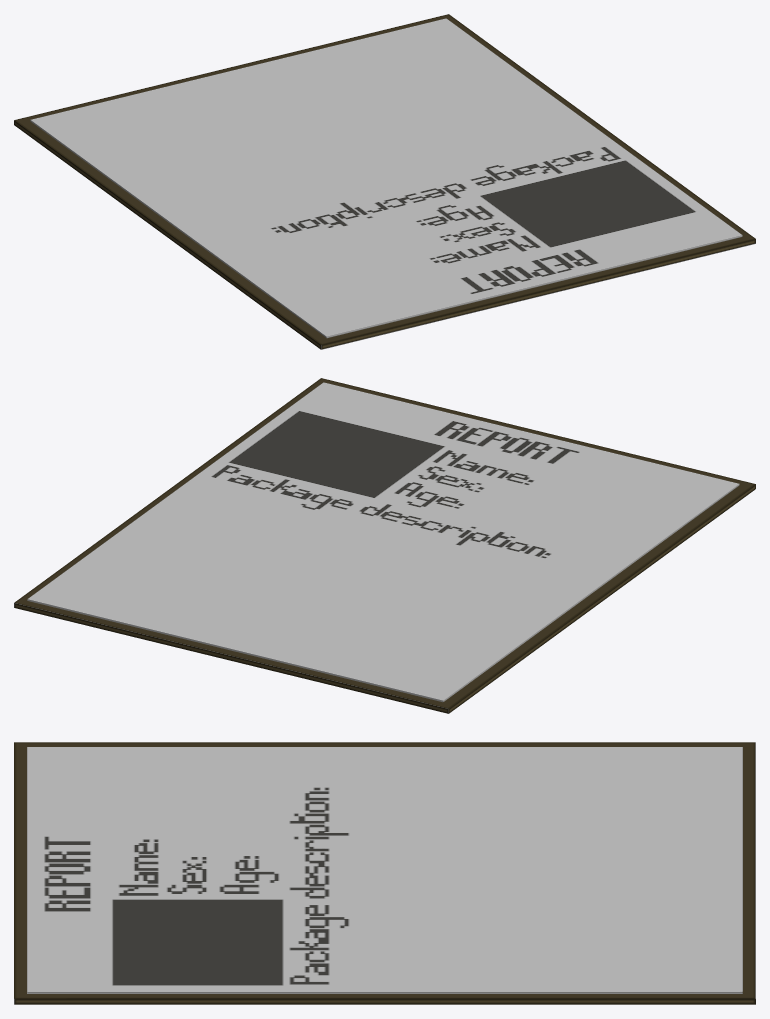
File: note_full.fbx
3 views of the same model, one above another, from view 1: azimuth 30°, elevation 25°; view 2: azimuth 150°, elevation 25°; view 3: azimuth 270°, elevation 25° (orthographic). The views are drawn at different scales.
Parts seen in each view (by area): view 1: cube, cube_1; view 2: cube, cube_1; view 3: cube, cube_1.
Part boxes in pixels (left/top/right/bottom): cube: left=30, top=18, right=742, bottom=338; cube_1: left=14, top=14, right=755, bottom=349; cube: left=27, top=382, right=739, bottom=702; cube_1: left=14, top=378, right=755, bottom=713; cube: left=27, top=747, right=742, bottom=993; cube_1: left=14, top=742, right=755, bottom=1004.
Bounding box in the file's own units: 1731 × 25 × 2119.
1 material, 1 textured.
